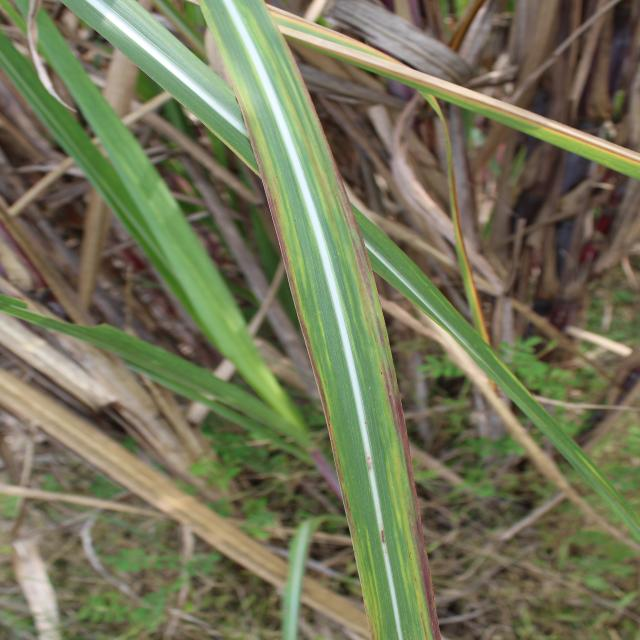Sugarcane: (189, 0, 448, 640), (0, 6, 315, 463), (342, 198, 640, 548), (259, 0, 638, 181), (57, 1, 254, 163)
